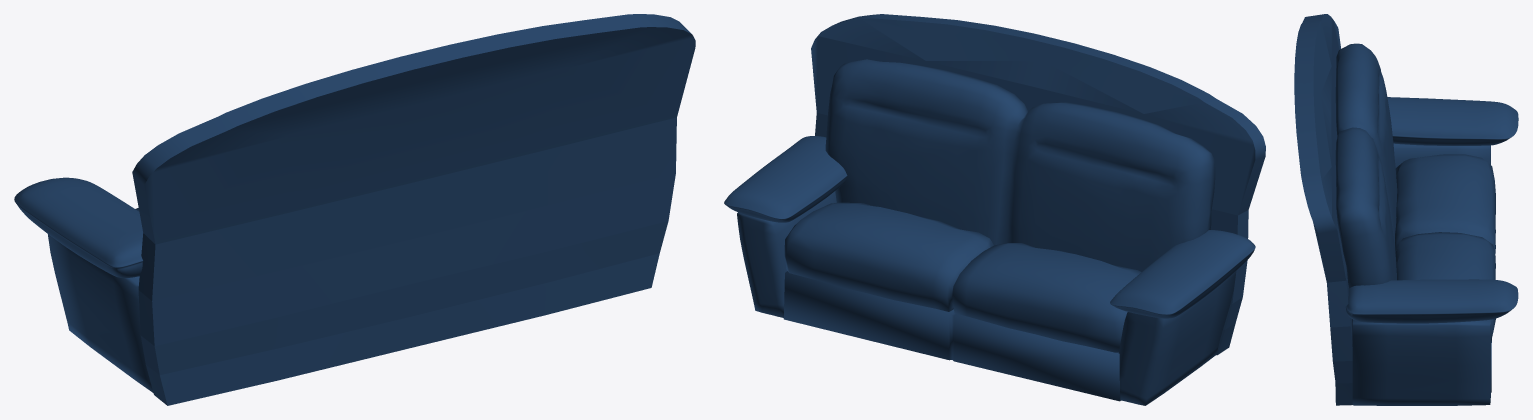
File: sofa.obj
3 views of the same model, side by side, from view 1: azimuth 30°, elevation 25°; view 2: azimuth 150°, elevation 25°; view 3: azimuth 270°, elevation 25° (orthographic). The views are drawn at different scales.
Parts seen in each view (by area): view 1: sofa_complete:Mesh polySurface1, Couch_obj:object_18, sofa_complete:Mesh polySurface8; view 2: sofa_complete:Mesh polySurface12, sofa_complete:Mesh polySurface1, sofa_complete:Mesh polySurface11, sofa_complete:Mesh polySurface2, sofa_complete:Mesh polySurface8, Couch_obj:object_18, object_18, polySurface7 sofa_complete:Mesh; view 3: sofa_complete:Mesh polySurface12, sofa_complete:Mesh polySurface11, sofa_complete:Mesh polySurface1, polySurface7 sofa_complete:Mesh, object_18, Couch_obj:object_18, sofa_complete:Mesh polySurface8.
Part boxes in pixels (left/top/right/bottom): sofa_complete:Mesh polySurface1: left=132, top=14, right=695, bottom=405; Couch_obj:object_18: left=14, top=177, right=143, bottom=277; sofa_complete:Mesh polySurface8: left=48, top=234, right=153, bottom=392; sofa_complete:Mesh polySurface12: left=825, top=59, right=1215, bottom=271; sofa_complete:Mesh polySurface1: left=811, top=14, right=1265, bottom=355; sofa_complete:Mesh polySurface11: left=784, top=202, right=1141, bottom=352; sofa_complete:Mesh polySurface2: left=783, top=271, right=1120, bottom=401; sofa_complete:Mesh polySurface8: left=1118, top=271, right=1236, bottom=405; Couch_obj:object_18: left=1110, top=230, right=1255, bottom=318; object_18: left=724, top=136, right=847, bottom=222; polySurface7 sofa_complete:Mesh: left=737, top=191, right=836, bottom=317; sofa_complete:Mesh polySurface12: left=1335, top=43, right=1397, bottom=288; sofa_complete:Mesh polySurface11: left=1395, top=154, right=1495, bottom=341; sofa_complete:Mesh polySurface1: left=1294, top=14, right=1352, bottom=405; polySurface7 sofa_complete:Mesh: left=1352, top=319, right=1490, bottom=405; object_18: left=1345, top=279, right=1518, bottom=323; Couch_obj:object_18: left=1387, top=97, right=1518, bottom=145; sofa_complete:Mesh polySurface8: left=1393, top=143, right=1490, bottom=167.
Size of the model in its own units: 2.3 by 1.2 by 1.03.
Materials: 1 (1 with a texture image).
